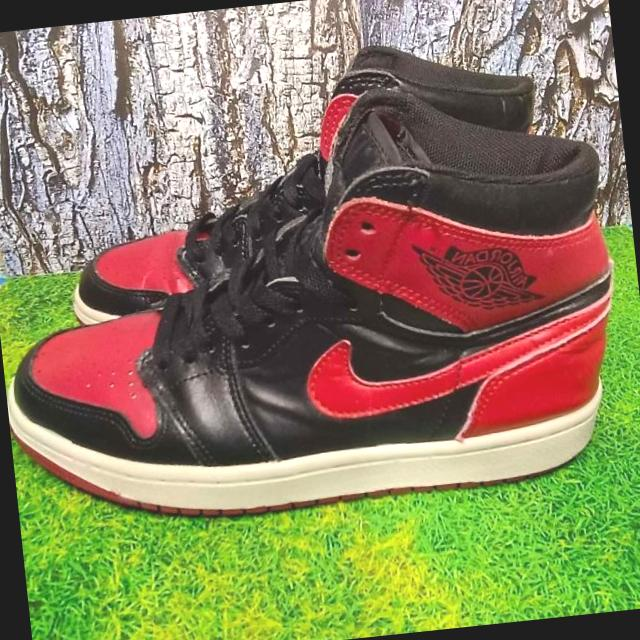nike_fake_jordan: (0, 68, 640, 541), (49, 28, 556, 327)
